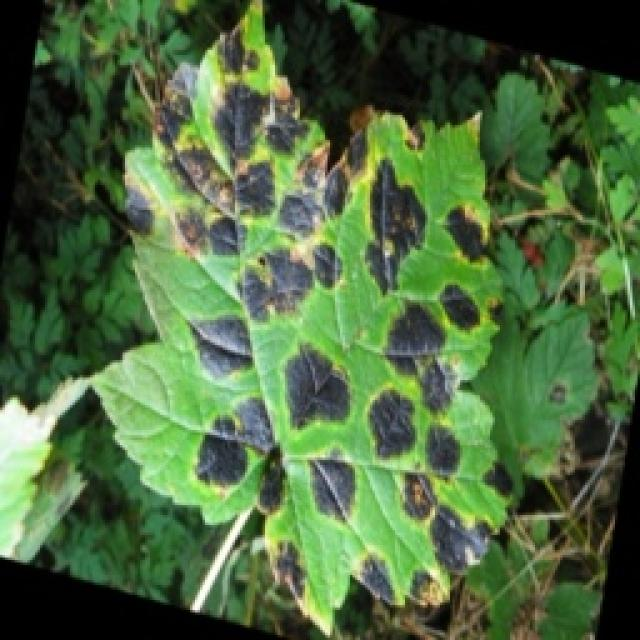Tar_Spot: (120, 55, 505, 640)
